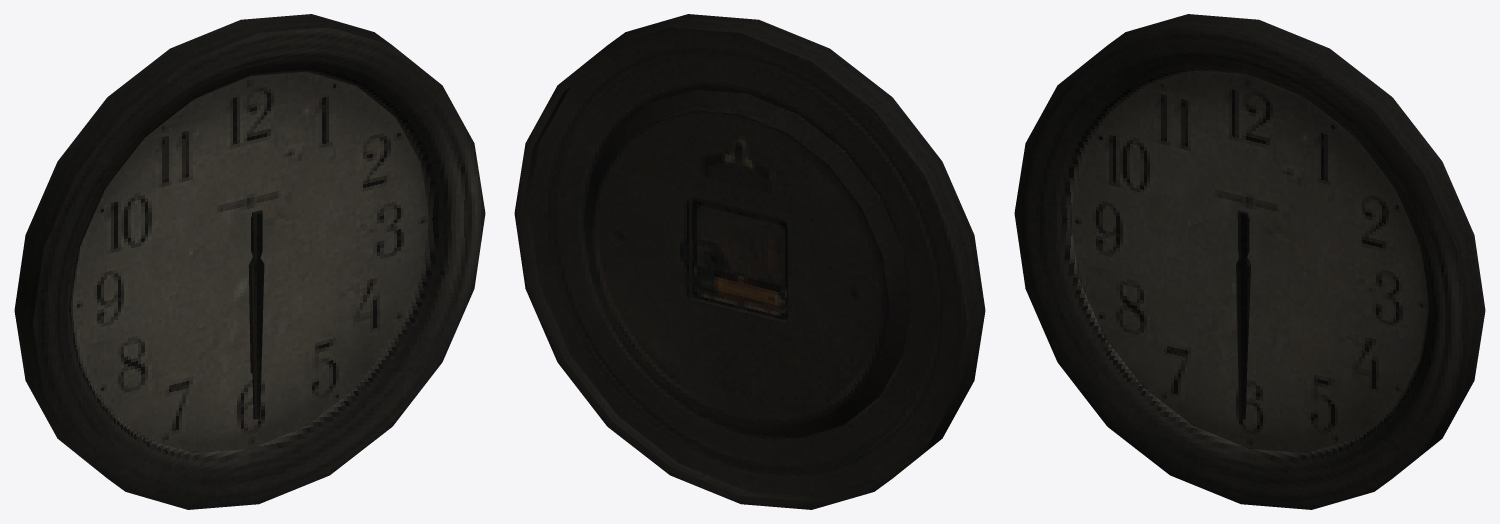
File: clock_2.glb
3 views of the same model, side by side, from view 1: azimuth 30°, elevation 25°; view 2: azimuth 150°, elevation 25°; view 3: azimuth 330°, elevation 25° (orthographic).
Parts seen in each view (by area): view 1: clock_2, clock_2_arm_minutes; view 2: clock_2; view 3: clock_2, clock_2_arm_minutes.
Boxes of the visible parts, <box> form: clock_2: <box>14,14,485,509</box>; clock_2_arm_minutes: <box>250,210,264,419</box>; clock_2: <box>514,14,985,509</box>; clock_2: <box>1014,14,1485,509</box>; clock_2_arm_minutes: <box>1236,210,1249,419</box>.
Bounding box in the file's own units: 0.2816 × 0.28 × 0.021.
1 material, 1 textured.
